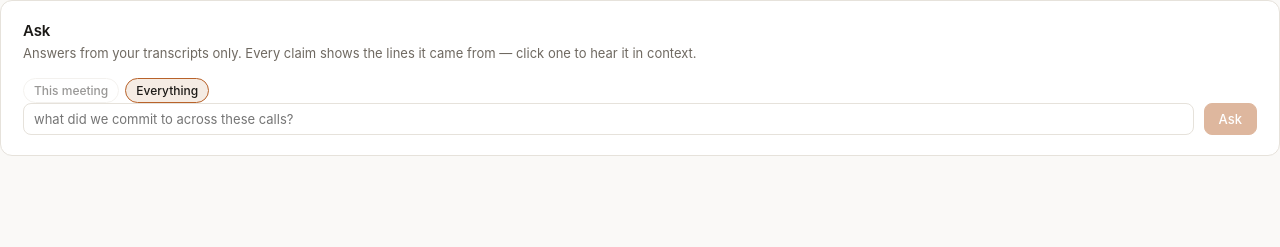
Test: ChatCard › shows a citation that points at a real moment
The width and height of the screenshot is (1280, 247).
Type "q" into the field named "ask a question" at (608, 118), box [23,102,1194,134]
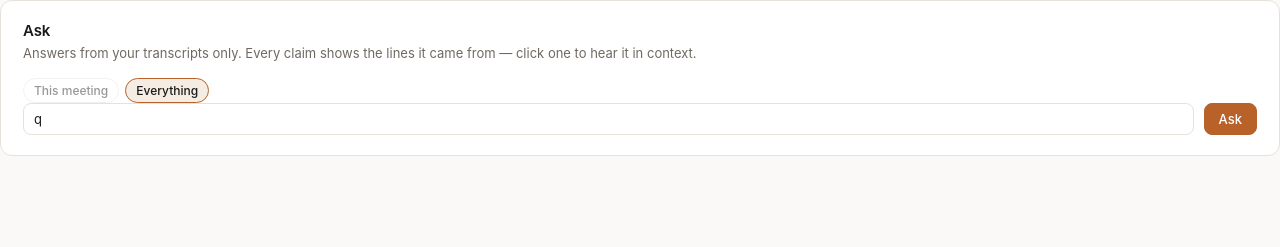
Click the button "Ask" at (1230, 118), box [1204,102,1257,134]
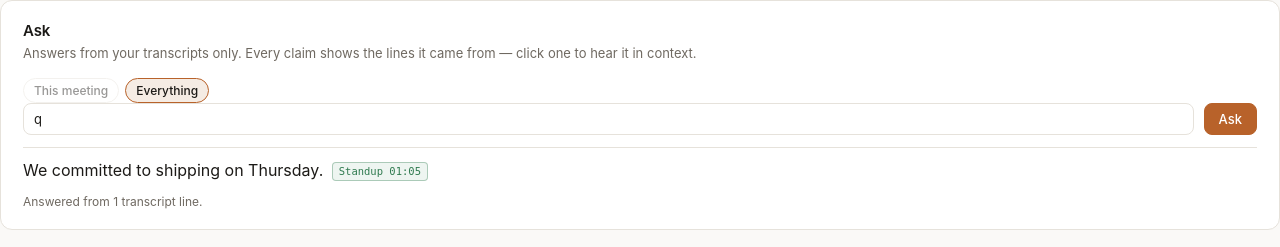
Check: the button "Standup 01:05" is shown, box [332,162,428,181]
